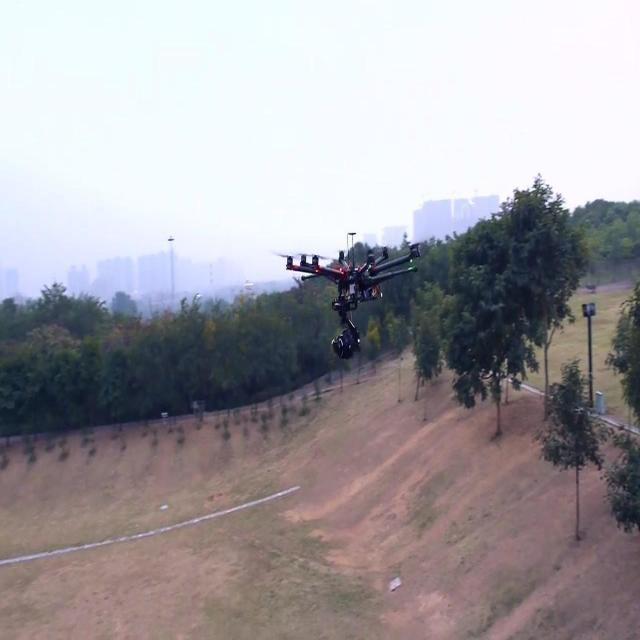drone: (278, 225, 424, 362)
